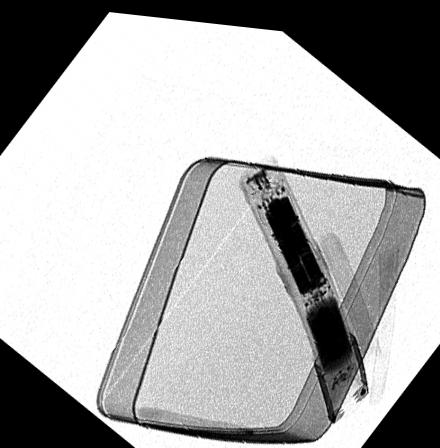Baton: (238, 147, 370, 416)
